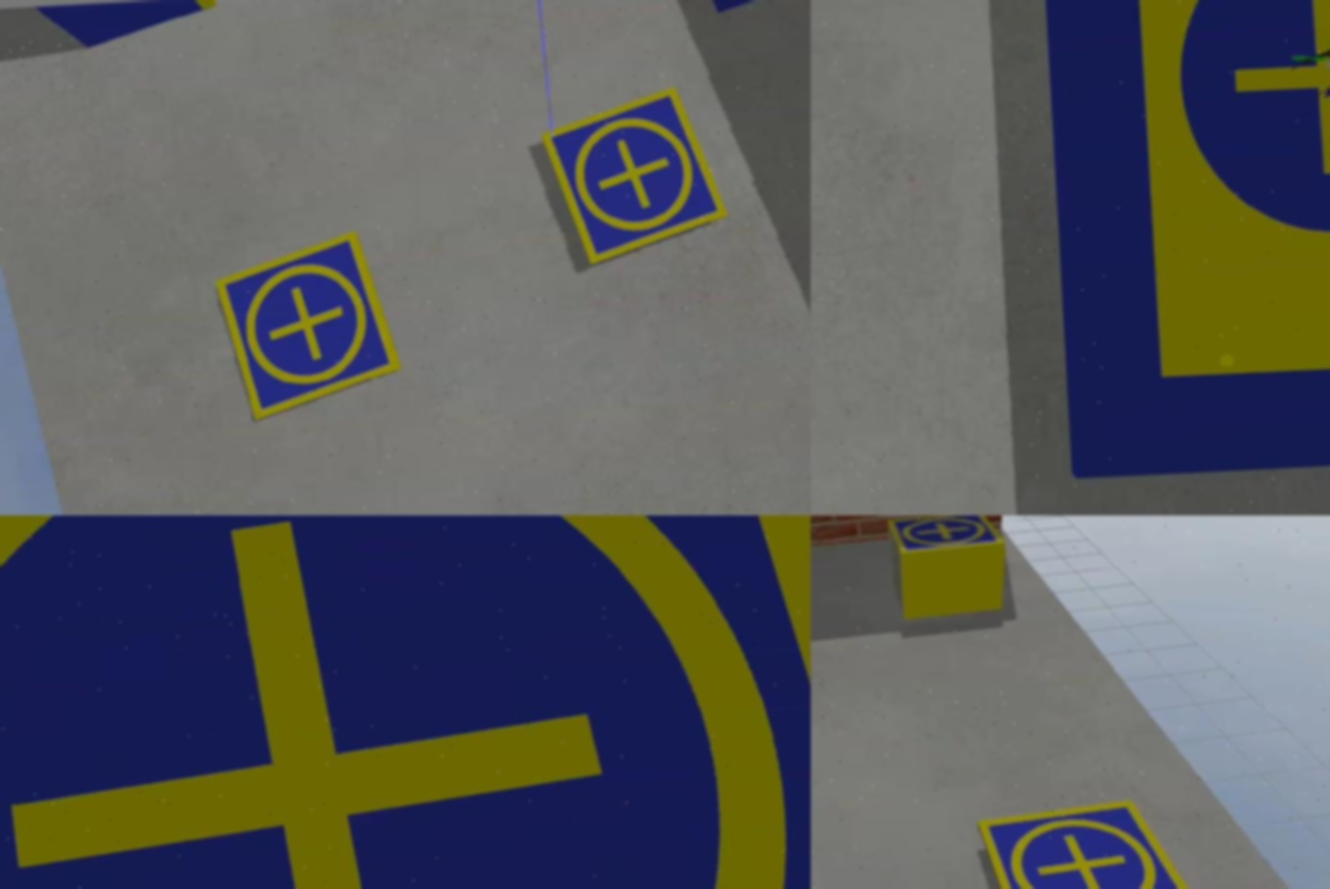large_base: (1, 516, 812, 889), (1044, 1, 1330, 476)
small_base: (216, 232, 403, 424), (542, 89, 730, 266), (980, 798, 1210, 889), (888, 516, 1006, 561)
